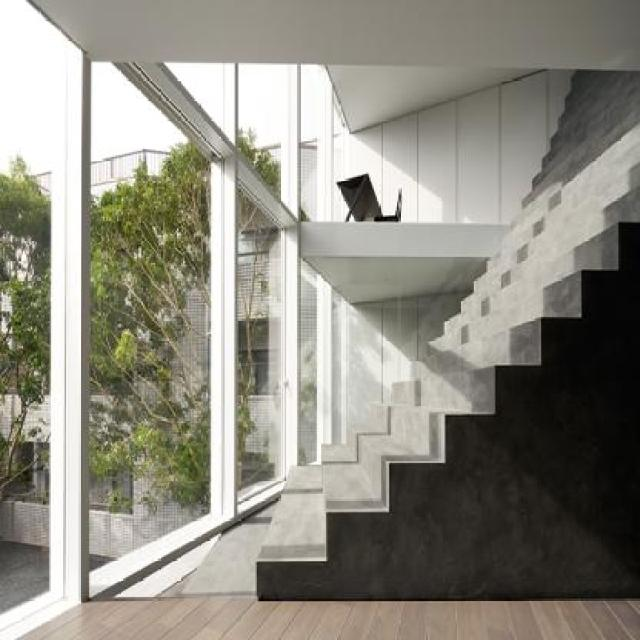stair: (169, 72, 640, 605)
